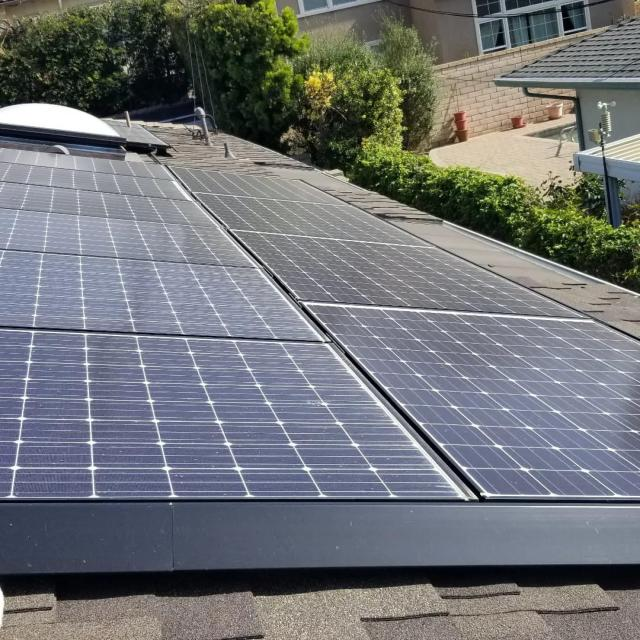dust-solar-panel: (0, 143, 640, 510)
